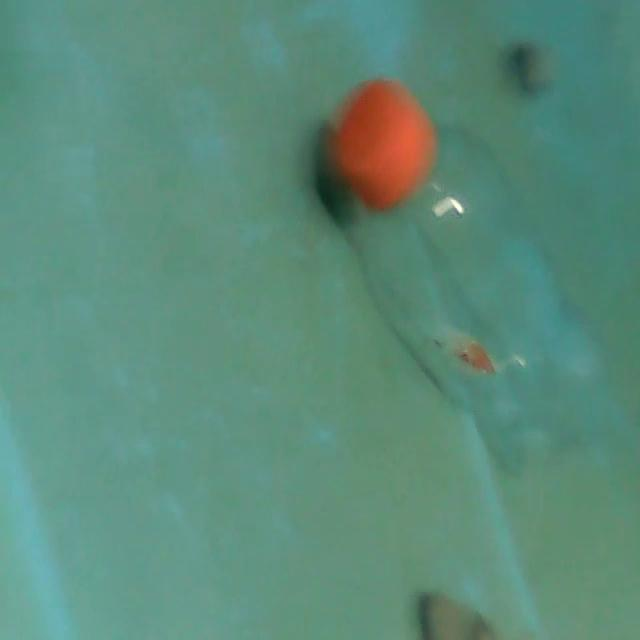plastic bottle: (313, 59, 627, 473)
